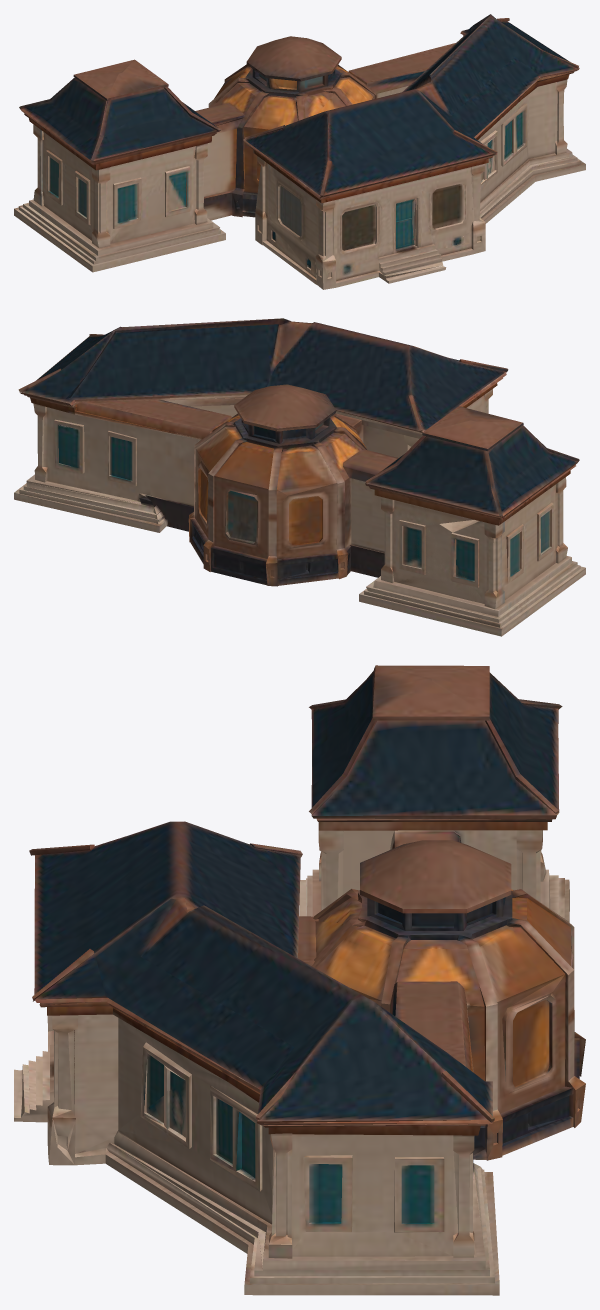
Rendered from research-laboratory-map.glb.
3 renders of one model, top to bottom at view 1: azimuth 30°, elevation 25°; view 2: azimuth 150°, elevation 25°; view 3: azimuth 270°, elevation 25°, orthographic. The views are drawn at different scales.
Bounding box in the file's own units: 0.9497 × 0.3022 × 0.5732.
1 material, 1 textured.
